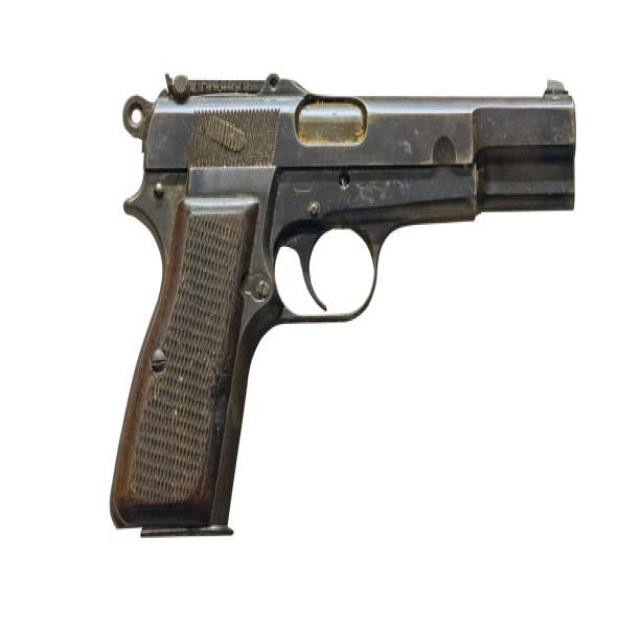pistol: (102, 68, 591, 546)
